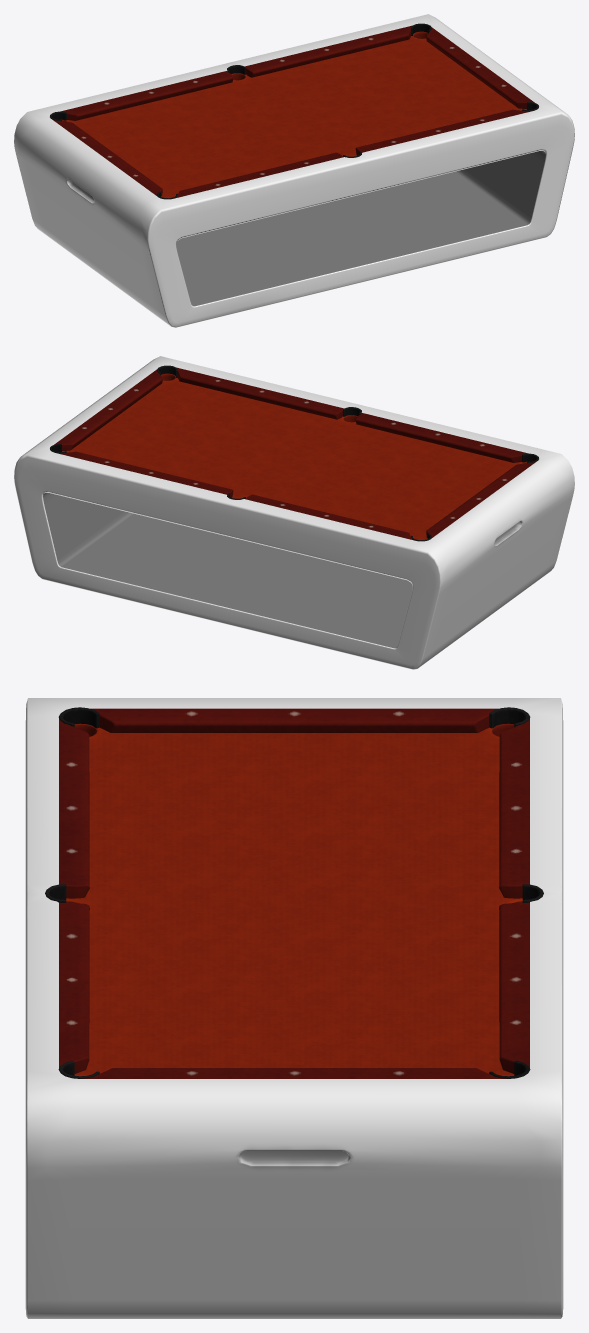
File: table.obj
3 renders of one model, top to bottom at view 1: azimuth 30°, elevation 25°; view 2: azimuth 150°, elevation 25°; view 3: azimuth 270°, elevation 25°, orthographic. The views are drawn at different scales.
Visible parts, largest first — view 1: Table_Mesh.001, BillarSurface_Mesh.003, Bordes_Mesh, Holes_Mesh.002; view 2: Table_Mesh.001, BillarSurface_Mesh.003, Bordes_Mesh, Holes_Mesh.002; view 3: Table_Mesh.001, BillarSurface_Mesh.003, Bordes_Mesh, Holes_Mesh.002.
Part boxes in pixels (left/top/right/bottom): Table_Mesh.001: left=14, top=14, right=574, bottom=327; BillarSurface_Mesh.003: left=62, top=31, right=526, bottom=198; Bordes_Mesh: left=52, top=25, right=534, bottom=198; Holes_Mesh.002: left=50, top=23, right=538, bottom=199; Table_Mesh.001: left=14, top=356, right=574, bottom=669; BillarSurface_Mesh.003: left=62, top=373, right=526, bottom=540; Bordes_Mesh: left=54, top=367, right=536, bottom=540; Holes_Mesh.002: left=50, top=365, right=538, bottom=541; Table_Mesh.001: left=25, top=698, right=563, bottom=1318; BillarSurface_Mesh.003: left=66, top=723, right=522, bottom=1076; Bordes_Mesh: left=59, top=708, right=529, bottom=1078; Holes_Mesh.002: left=45, top=707, right=543, bottom=1078.
Bounding box in the file's own units: 3.86 × 1.06 × 2.1.
1 material, 1 textured.
